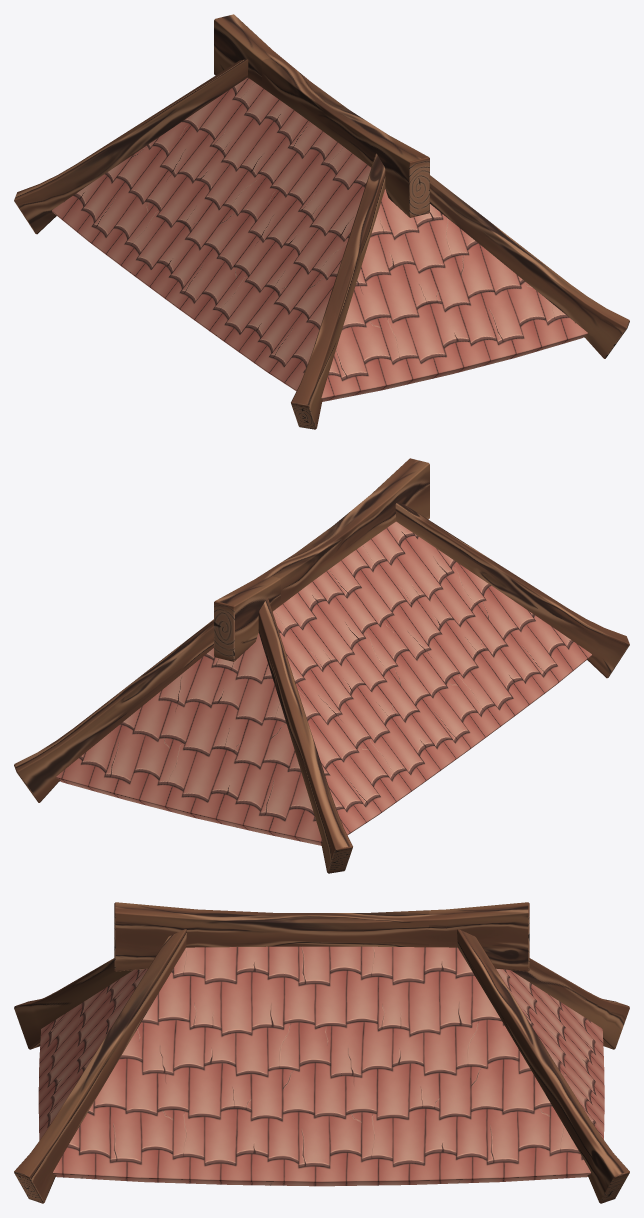
File: house_roof3.FBX
The picture shows the model from 3 angles, top to bottom: view 1: azimuth 30°, elevation 25°; view 2: azimuth 150°, elevation 25°; view 3: azimuth 270°, elevation 25°; orthographic projection. The views are drawn at different scales.
Visible parts, largest first — view 1: roof003; view 2: roof003; view 3: roof003.
Part boxes in pixels (x1,y1,x2,y2): roof003: [14, 14, 629, 429]; roof003: [14, 458, 629, 873]; roof003: [14, 902, 629, 1203].
Size of the model in its own units: 529 by 306 by 788.
